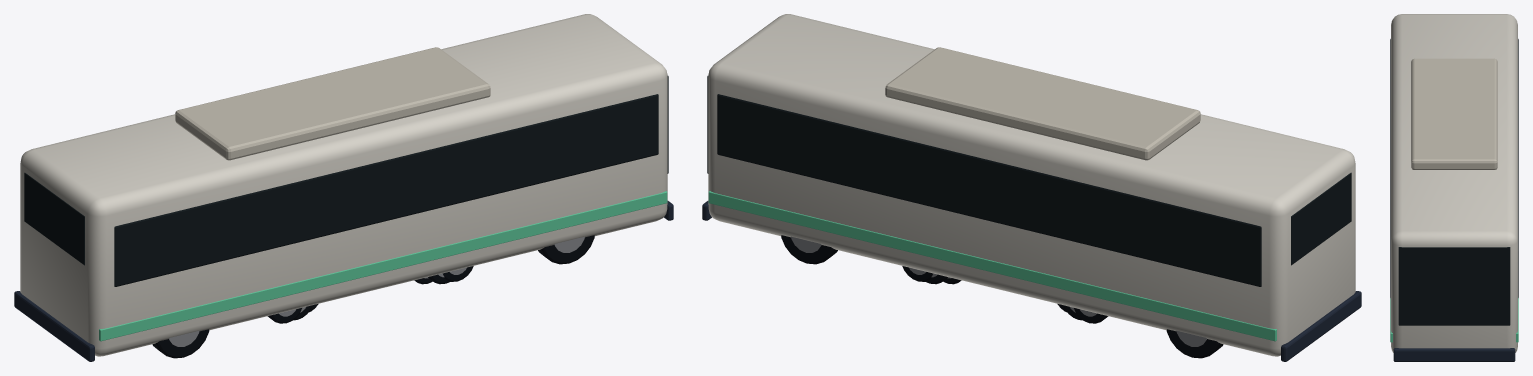
The model's file is vehicles.glb.
3 renders of one model, left to right at view 1: azimuth 30°, elevation 25°; view 2: azimuth 150°, elevation 25°; view 3: azimuth 270°, elevation 25°, orthographic. The views are drawn at different scales.
Visible parts, largest first — view 1: bus, van; view 2: bus, van; view 3: bus.
Part boxes in pixels (left/top/right/bottom): bus: left=14, top=14, right=673, bottom=361; van: left=267, top=266, right=473, bottom=323; bus: left=702, top=14, right=1361, bottom=361; van: left=902, top=266, right=1108, bottom=323; bus: left=1390, top=14, right=1518, bottom=361.
Bounding box in the file's own units: 10.62 × 3.26 × 2.52.
